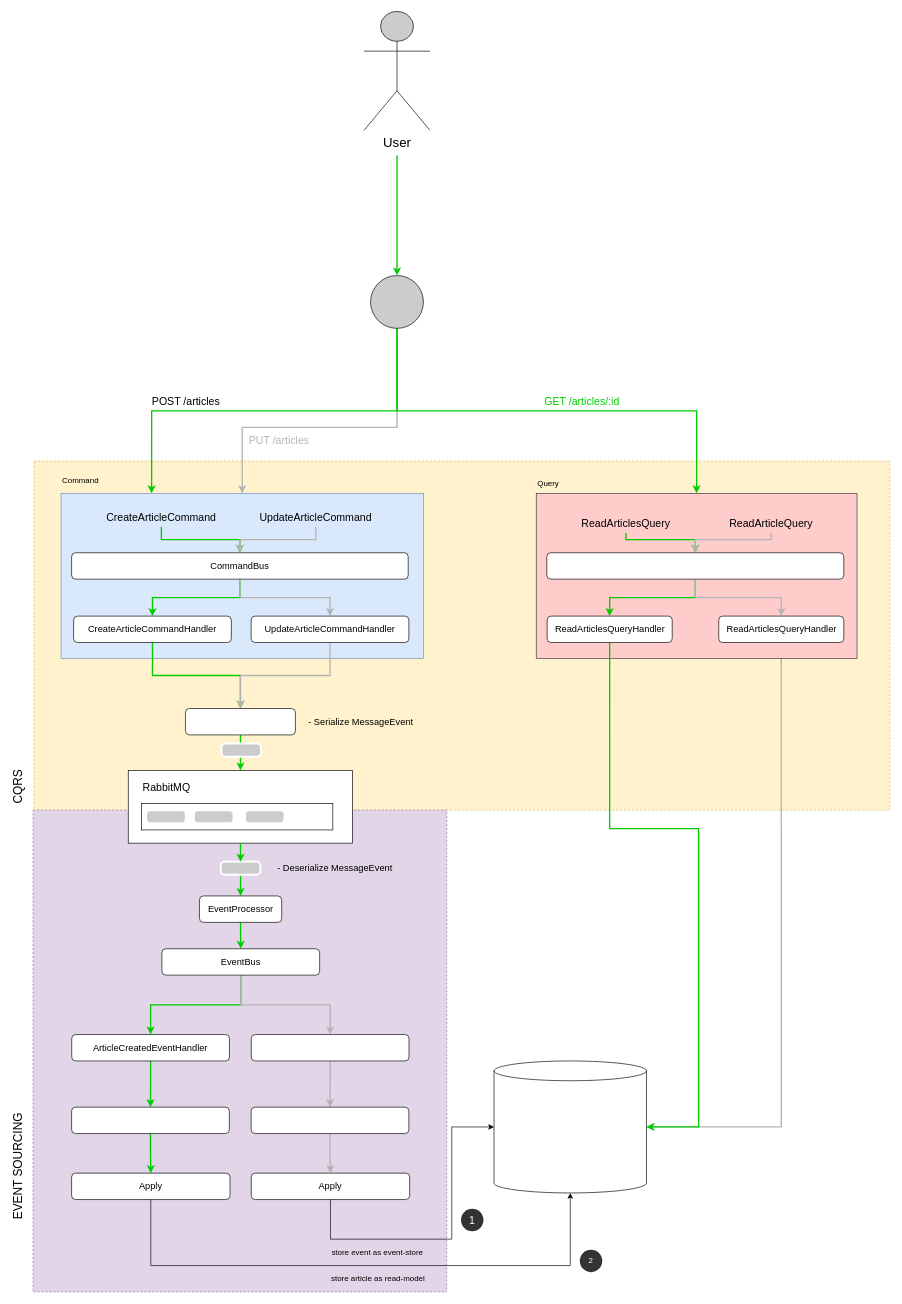
Image size: 902x1304. Some labels were removed from this diagram. The centre of each missing label's shape, as x and y in pixels:
ArticleCreatedEvent: point 150,1120
ArticleUpdatedEvent: point 329,1120
ArticleUpdatedEventHandler: point 330,1047
Elasticsearch: point 569,1126
QueryBus: point 695,565
QueueConnector: point 240,721
Router: point 396,301
